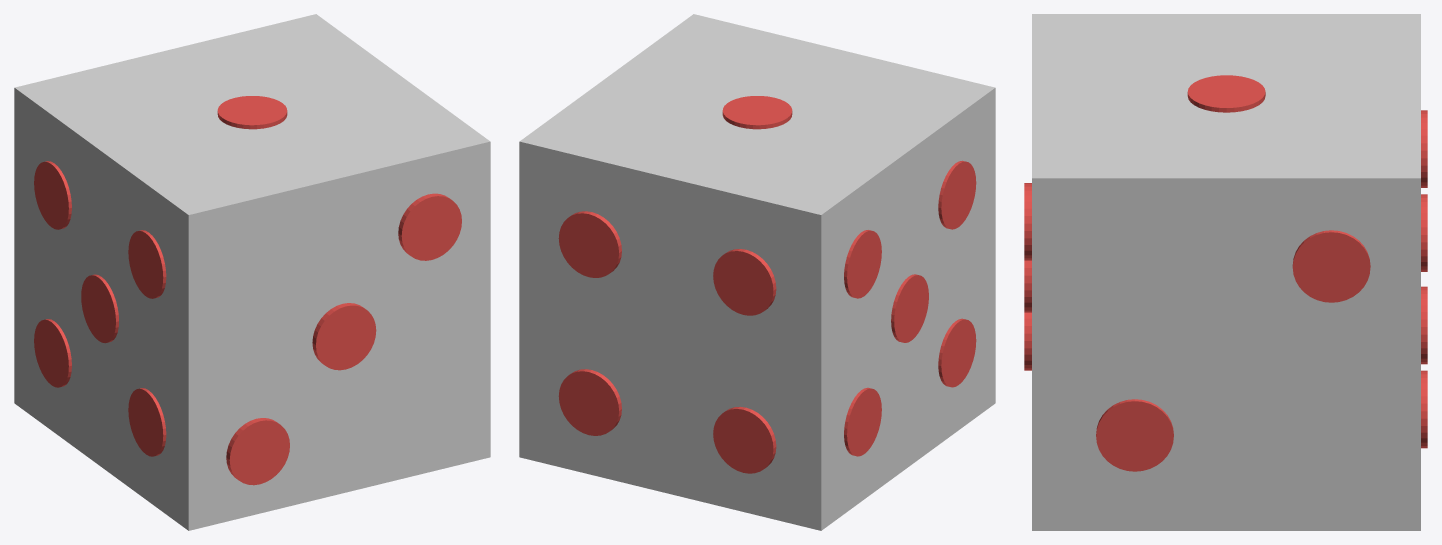
3 renders of one model, left to right at view 1: azimuth 30°, elevation 25°; view 2: azimuth 150°, elevation 25°; view 3: azimuth 270°, elevation 25°, orthographic. The views are drawn at different scales.
Parts seen in each view (by area): view 1: 立方體, 圓柱體.014, 圓柱體.016, 圓柱體.015, 圓柱體.013, 圓柱體.010, 圓柱體.009, 圓柱體.012, 圓柱體.011, 圓柱體; view 2: 立方體, 圓柱體.018, 圓柱體.020, 圓柱體.019, 圓柱體.017, 圓柱體.010, 圓柱體.012, 圓柱體.013, 圓柱體.011, 圓柱體.009, 圓柱體; view 3: 立方體, 圓柱體.007, 圓柱體.008, 圓柱體, 圓柱體.014, 圓柱體.019, 圓柱體.020, 圓柱體.017, 圓柱體.018, 圓柱體.016.
Part boxes in pixels (left/top/right/bottom): 立方體: left=14, top=14, right=490, bottom=530; 圓柱體.014: left=398, top=193, right=461, bottom=260; 圓柱體.016: left=226, top=418, right=289, bottom=485; 圓柱體.015: left=312, top=303, right=376, bottom=370; 圓柱體.013: left=128, top=388, right=166, bottom=456; 圓柱體.010: left=128, top=230, right=166, bottom=298; 圓柱體.009: left=34, top=161, right=71, bottom=229; 圓柱體.012: left=34, top=319, right=71, bottom=387; 圓柱體.011: left=81, top=274, right=118, bottom=343; 圓柱體: left=217, top=96, right=287, bottom=129; 立方體: left=519, top=14, right=995, bottom=530; 圓柱體.018: left=713, top=249, right=776, bottom=315; 圓柱體.020: left=713, top=406, right=776, bottom=473; 圓柱體.019: left=558, top=369, right=621, bottom=435; 圓柱體.017: left=558, top=211, right=621, bottom=277; 圓柱體.010: left=938, top=160, right=976, bottom=229; 圓柱體.012: left=844, top=387, right=881, bottom=456; 圓柱體.013: left=938, top=318, right=976, bottom=387; 圓柱體.011: left=891, top=274, right=928, bottom=342; 圓柱體.009: left=844, top=230, right=881, bottom=298; 圓柱體: left=722, top=96, right=792, bottom=129; 立方體: left=1032, top=14, right=1420, bottom=530; 圓柱體.007: left=1096, top=399, right=1173, bottom=471; 圓柱體.008: left=1292, top=230, right=1370, bottom=302; 圓柱體: left=1187, top=75, right=1265, bottom=112; 圓柱體.014: left=1024, top=183, right=1031, bottom=260; 圓柱體.019: left=1421, top=370, right=1427, bottom=448; 圓柱體.020: left=1421, top=286, right=1427, bottom=364; 圓柱體.017: left=1421, top=194, right=1427, bottom=271; 圓柱體.018: left=1421, top=110, right=1427, bottom=187; 圓柱體.016: left=1024, top=312, right=1031, bottom=370.
Size of the model in its own units: 204 by 204 by 207.
